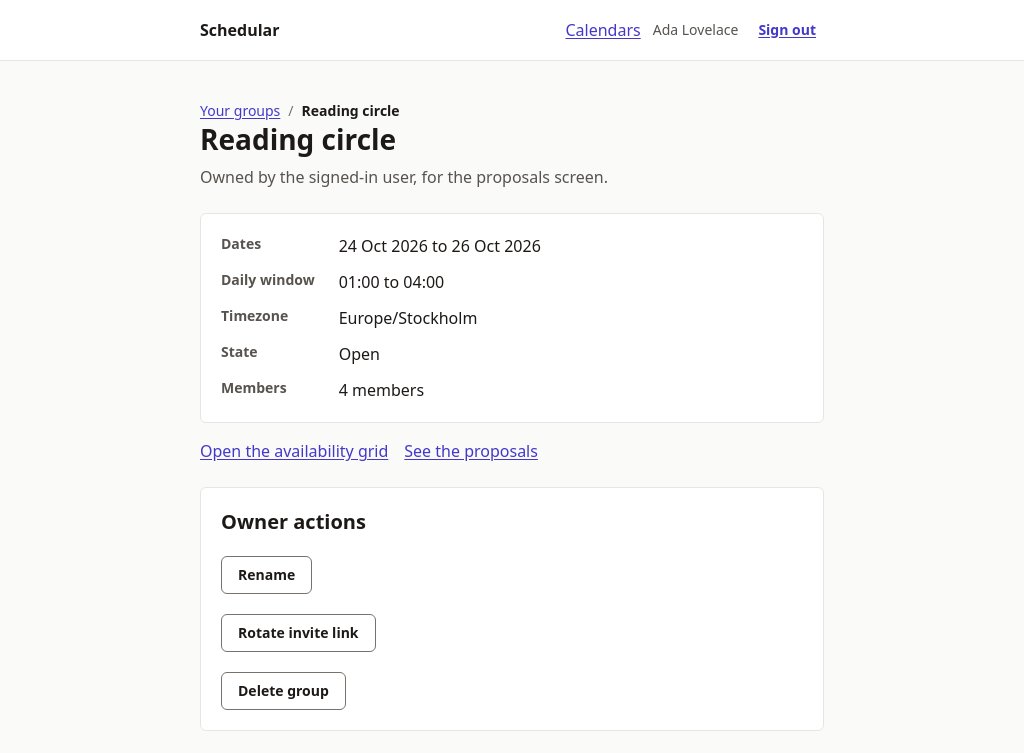
routing › navigates from a group's detail page to its proposals
This screenshot has width=1024, height=753.
Click the link "See the proposals" at [471, 451], box [404, 439, 538, 463]
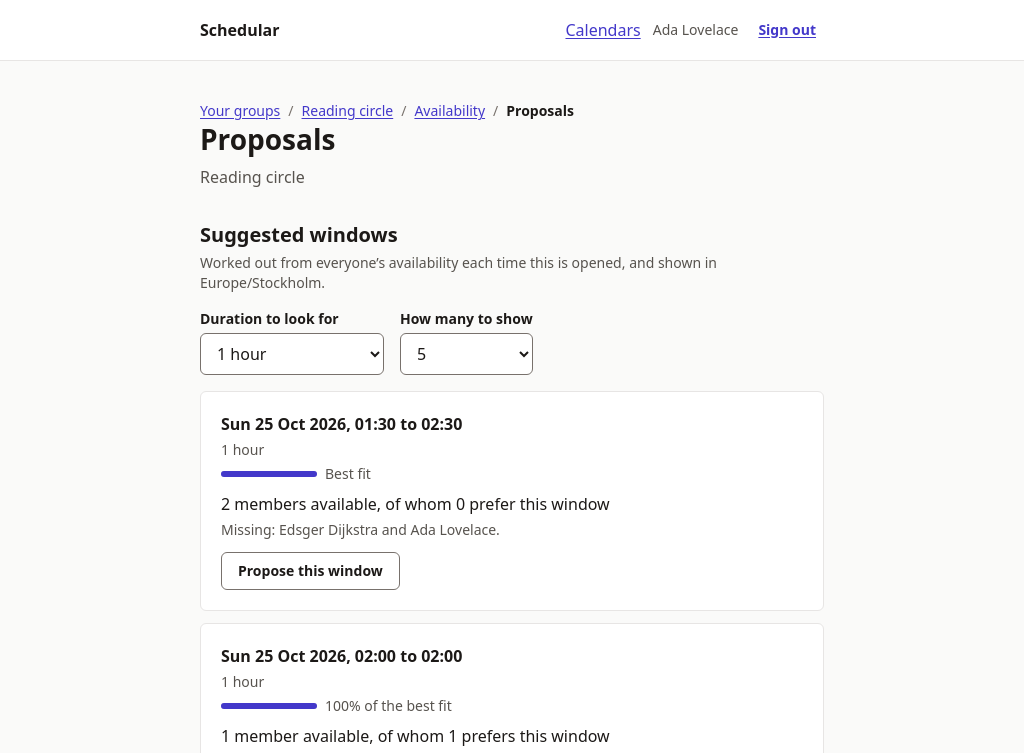
Check: the heading "Proposals" is shown, box [200, 120, 335, 158]
